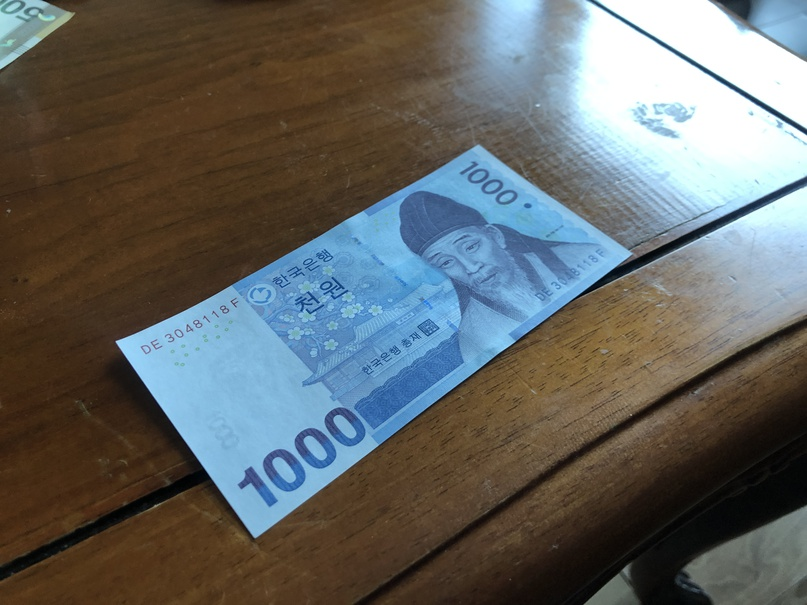1000won: (113, 144, 636, 539)
